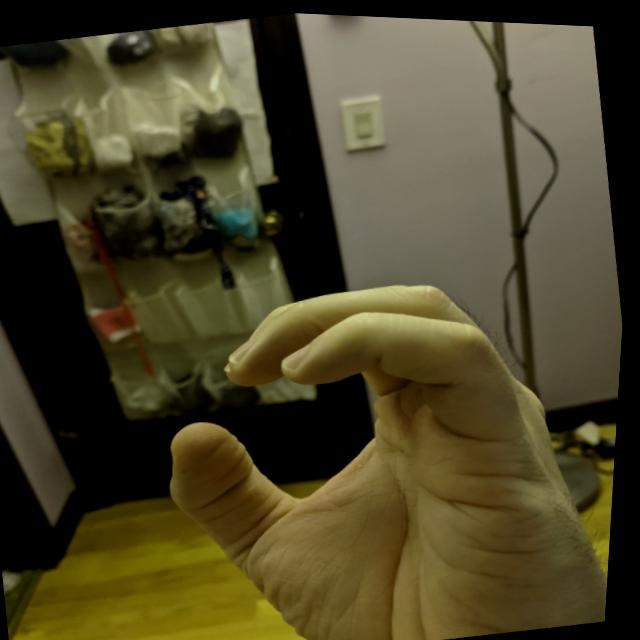C: (127, 235, 629, 639)
